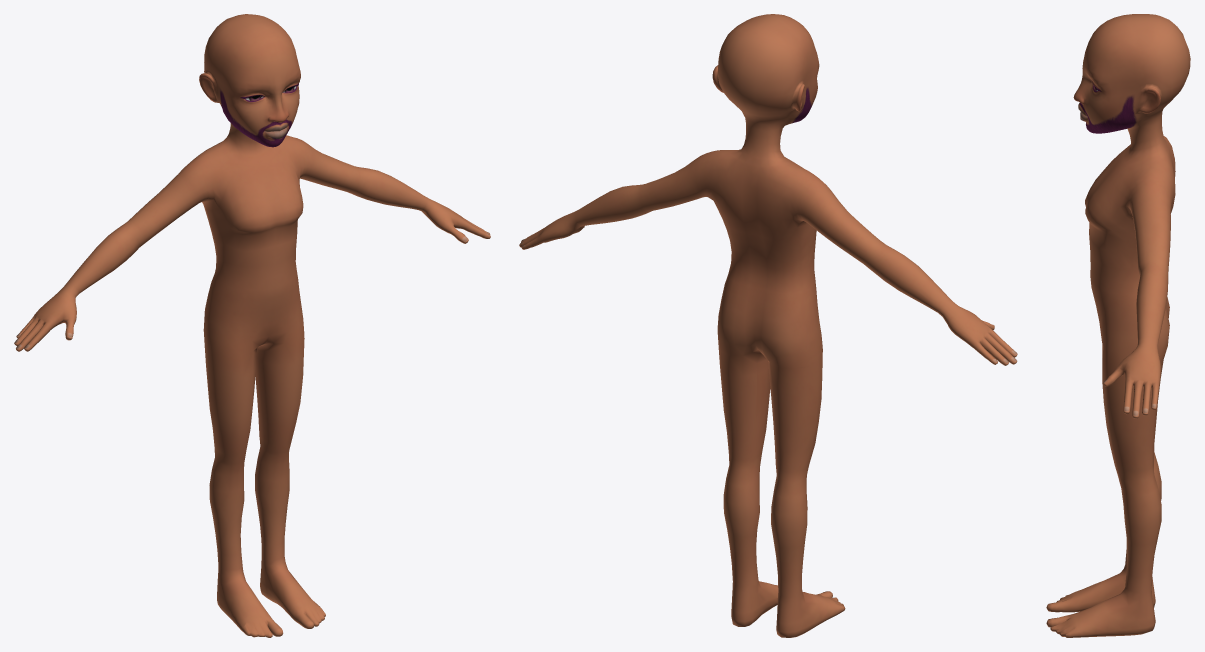
Rendered from frame_0069.glb.
The picture shows the model from 3 angles, left to right: view 1: azimuth 30°, elevation 25°; view 2: azimuth 150°, elevation 25°; view 3: azimuth 270°, elevation 25°; orthographic projection. The views are drawn at different scales.
Visible parts, largest first — view 1: frame_0069_head_geo; view 2: frame_0069_head_geo; view 3: frame_0069_head_geo.
Part boxes in pixels (x1,y1,x2,y2): frame_0069_head_geo: [14, 14, 490, 637]; frame_0069_head_geo: [519, 14, 1017, 637]; frame_0069_head_geo: [1046, 14, 1190, 637].
Bounding box in the file's own units: 1.28 × 1.5 × 0.3253.
Materials: 3 (3 with a texture image).
